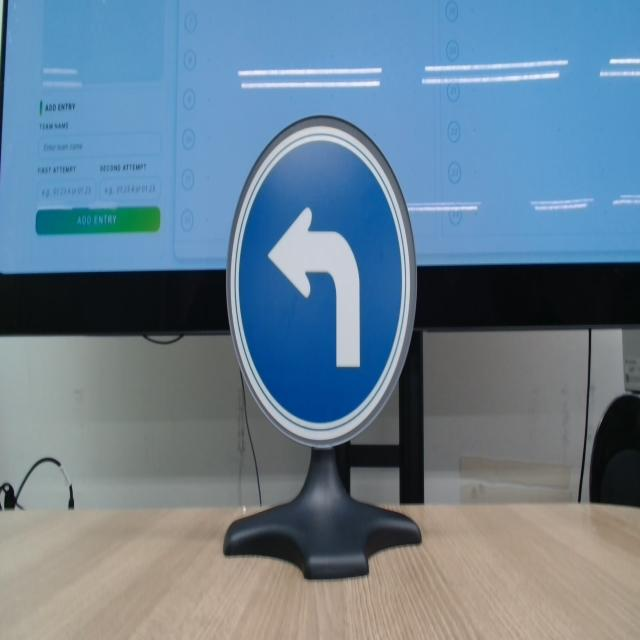left_direction: (212, 82, 451, 478)
